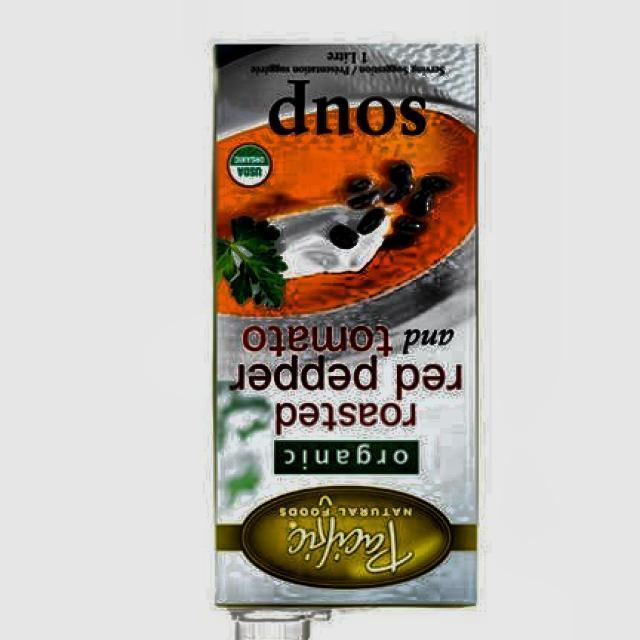cardboard: (213, 44, 480, 626)
